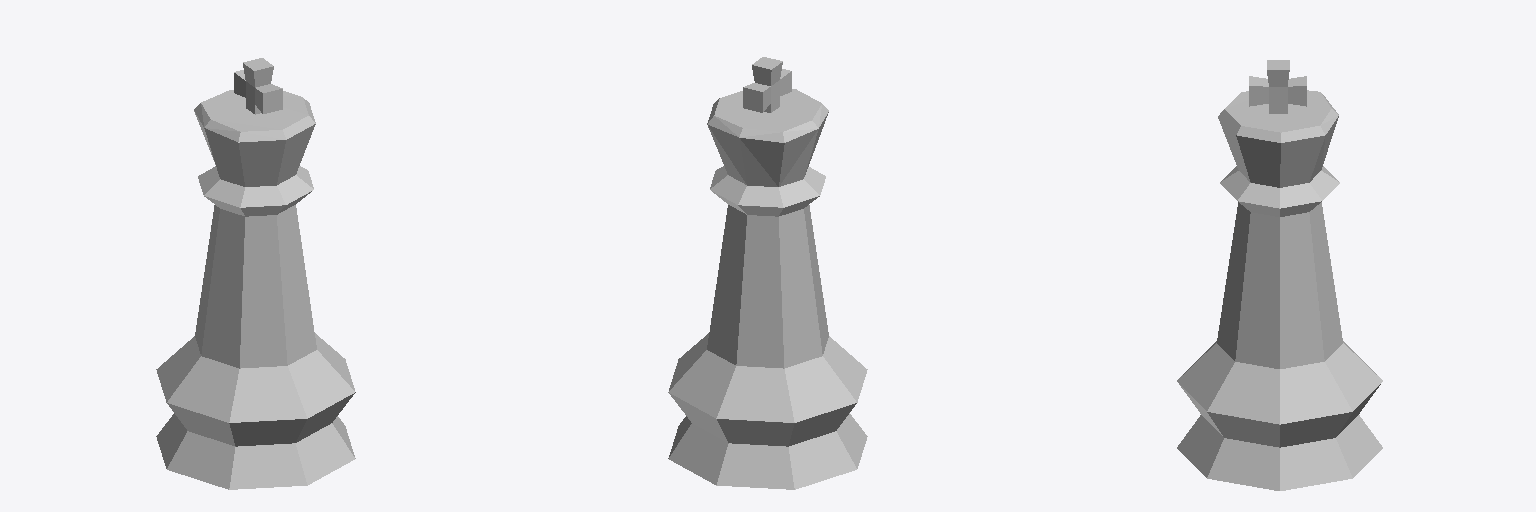
The model's file is king.obj.
3 views of the same model, side by side, from view 1: azimuth 30°, elevation 25°; view 2: azimuth 150°, elevation 25°; view 3: azimuth 270°, elevation 25° (orthographic).
Visible parts, largest first — view 1: Circle.005; view 2: Circle.005; view 3: Circle.005.
Part boxes in pixels (left/top/right/bottom): Circle.005: left=156, top=58, right=355, bottom=489; Circle.005: left=668, top=57, right=867, bottom=489; Circle.005: left=1177, top=60, right=1382, bottom=490.
Size of the model in its own units: 0.14 by 0.287 by 0.14.